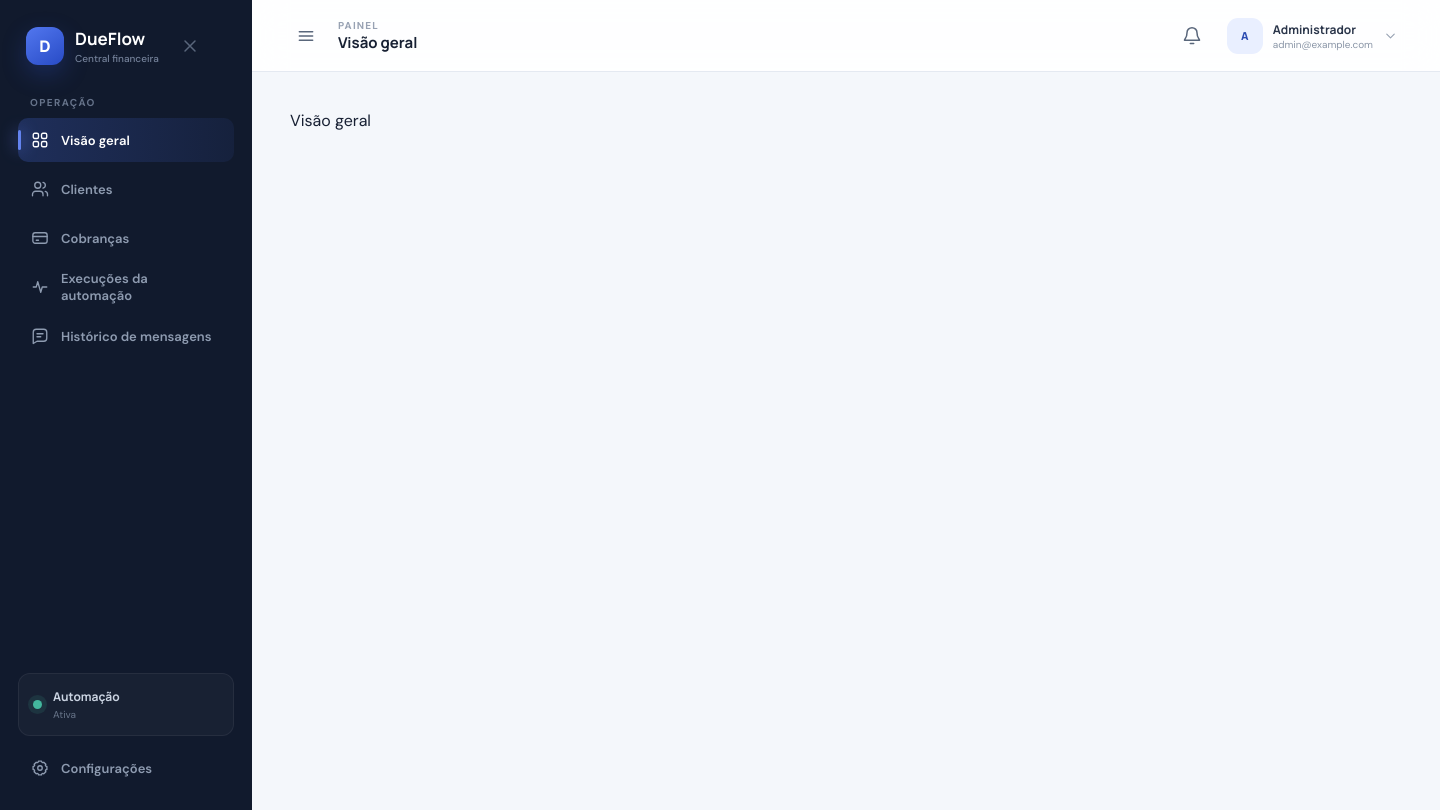
Test case: expõe atalhos funcionais e o estado real da automação
Check: the text "Ativa" is shown, box [53,708,76,721]
What coordinates should you click on to do the following:
click the button named "Abrir histórico de mensagens"
I would click on:
 (1192, 36)
Its box is [1172,16,1212,56].
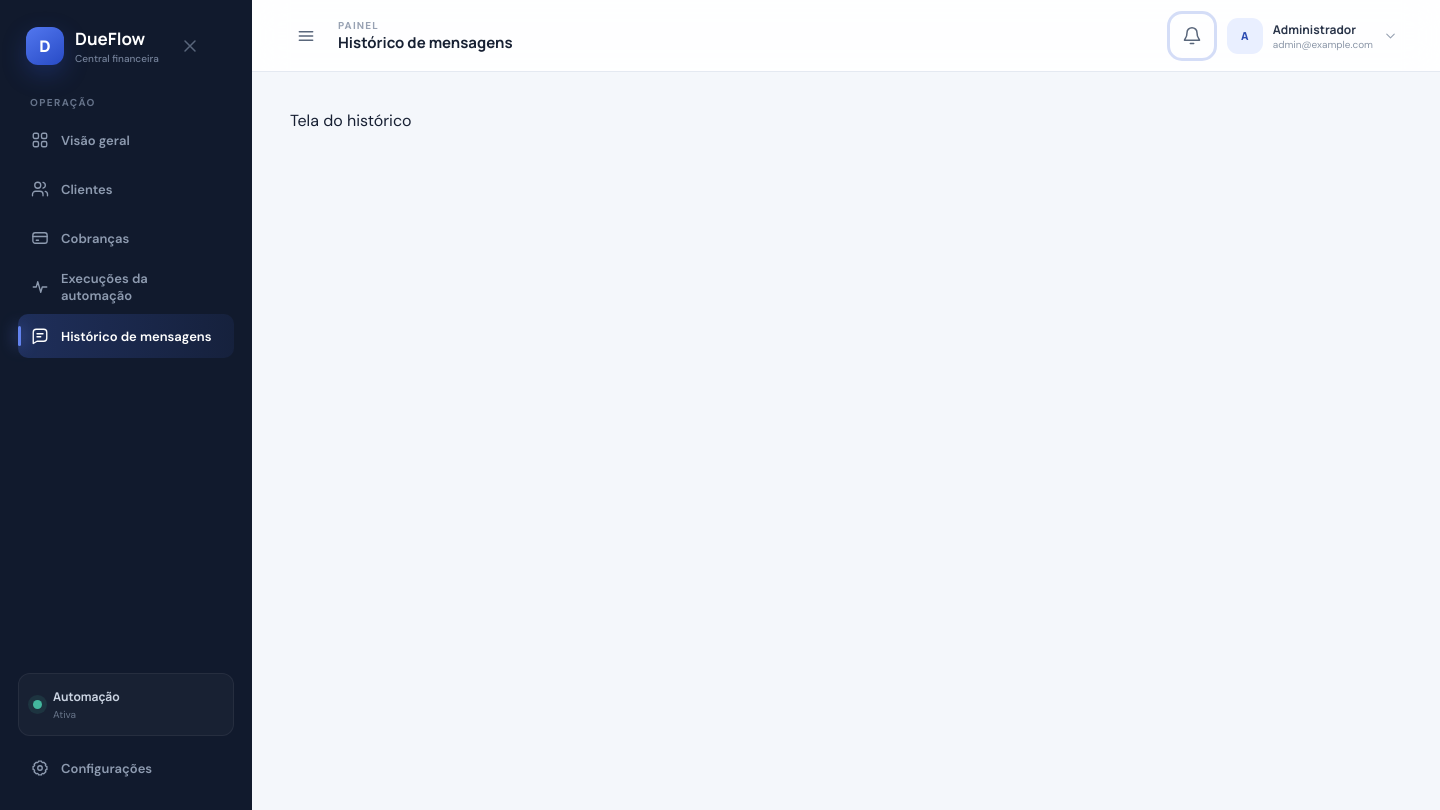
Check: the text "Tela do histórico" is shown, box [290,110,412,131]
